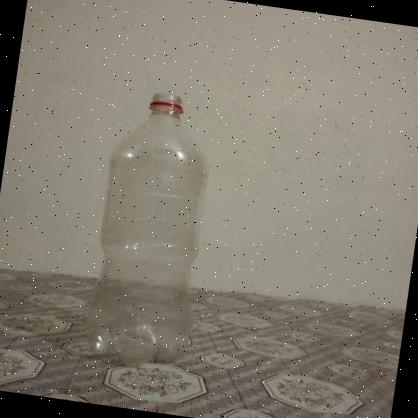bottle: (81, 88, 220, 375)
